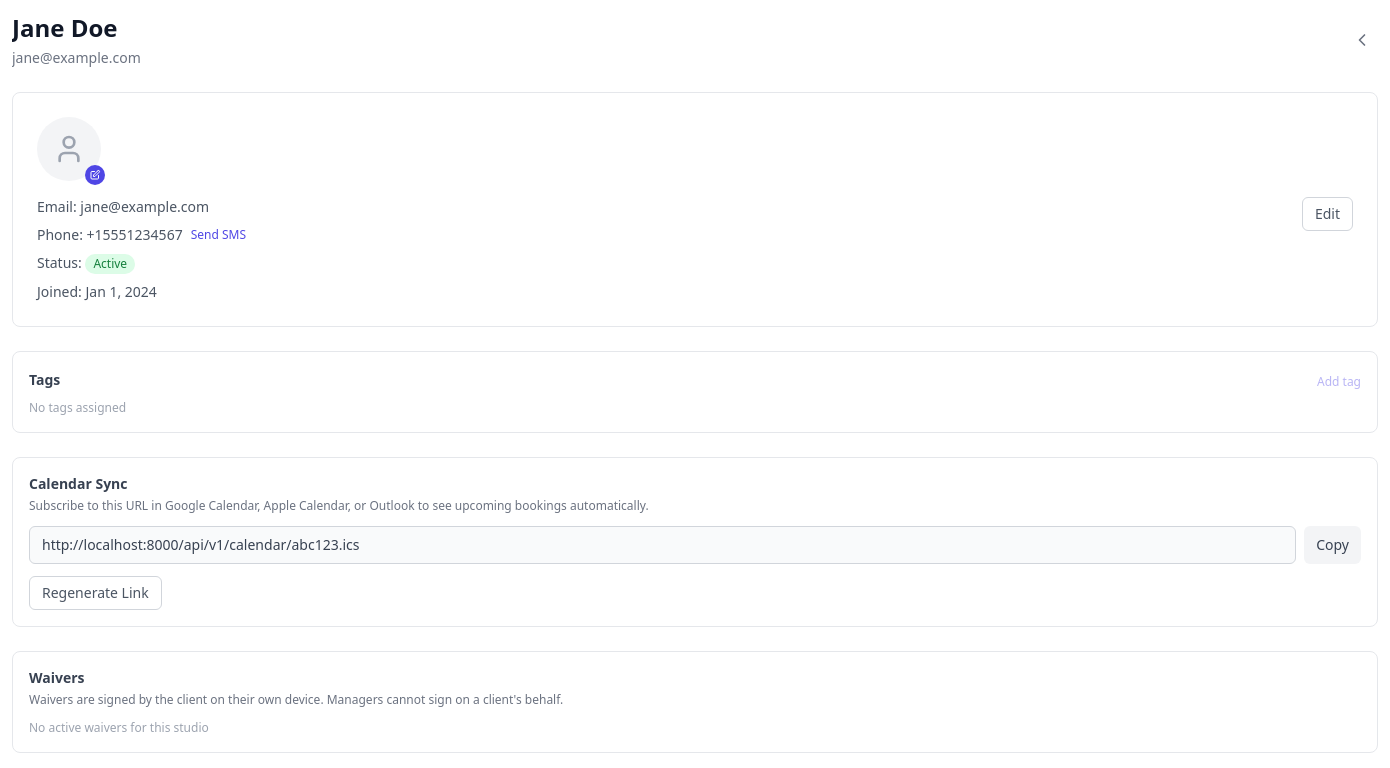
it: ClientDetail — Calendar Sync › regenerates the feed URL after confirming, and updates the displayed URL
Expected: the field showing "http://localhost:8000/api/v1/calendar/abc123.ics" is shown, [29, 526, 1296, 564]
Step 1. Click the button "Regenerate Link" → (95, 593), box [29, 576, 162, 610]
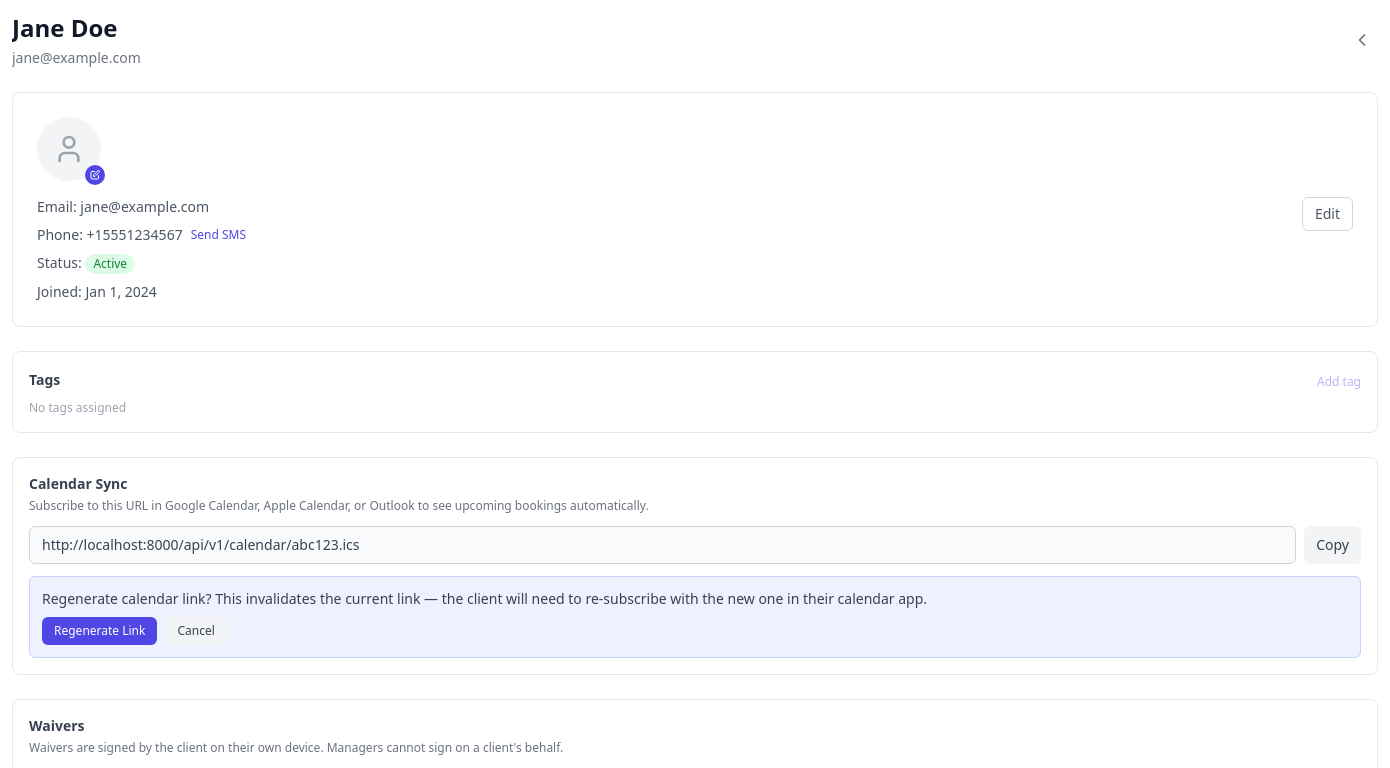
Now the text "Regenerate calendar link?" is shown, box [42, 589, 212, 608]
Step 2. Click the button "Regenerate Link" → (100, 631), box [42, 617, 158, 645]
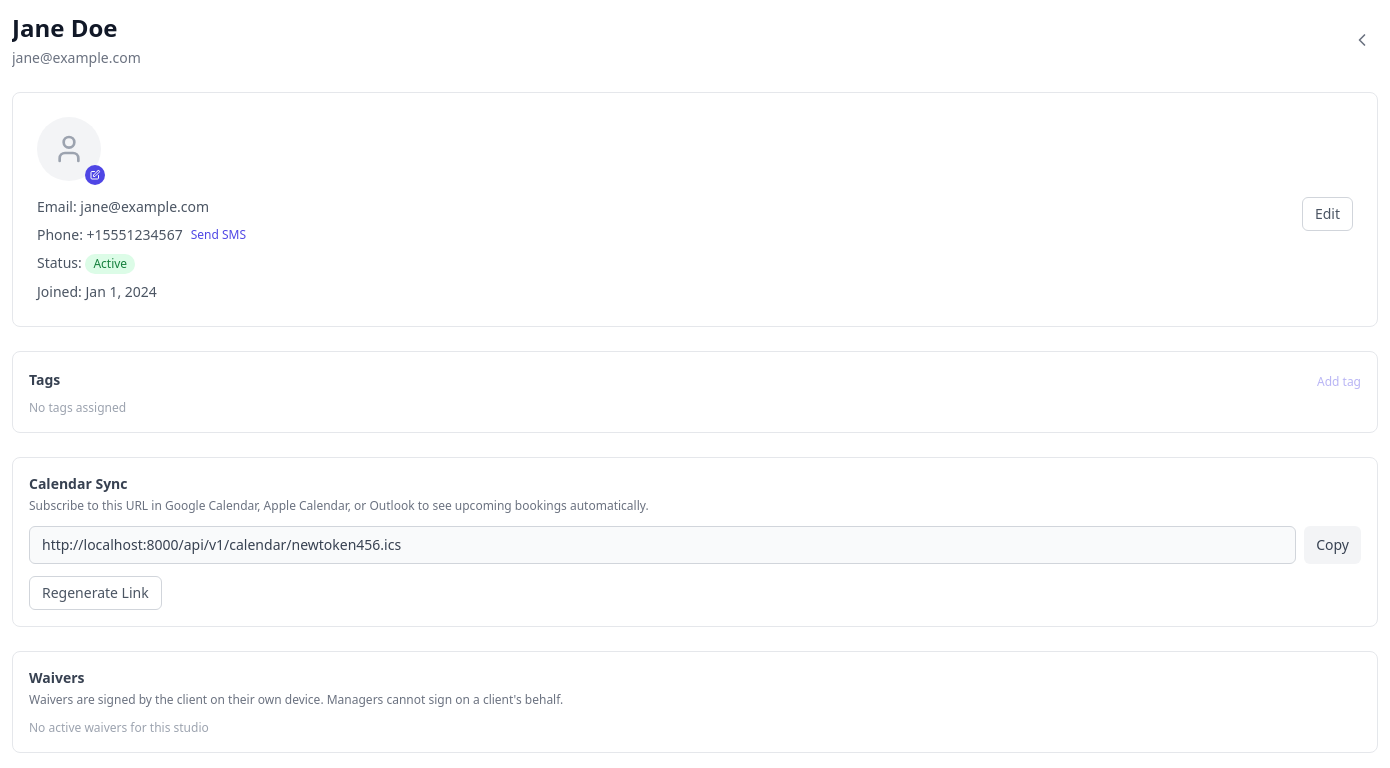
Now the field showing "http://localhost:8000/api/v1/calendar/newtoken456.ics" is shown, box [29, 526, 1296, 564]
